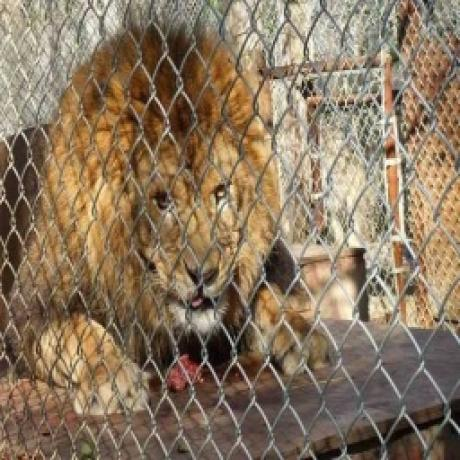Lion: (0, 20, 334, 413)
